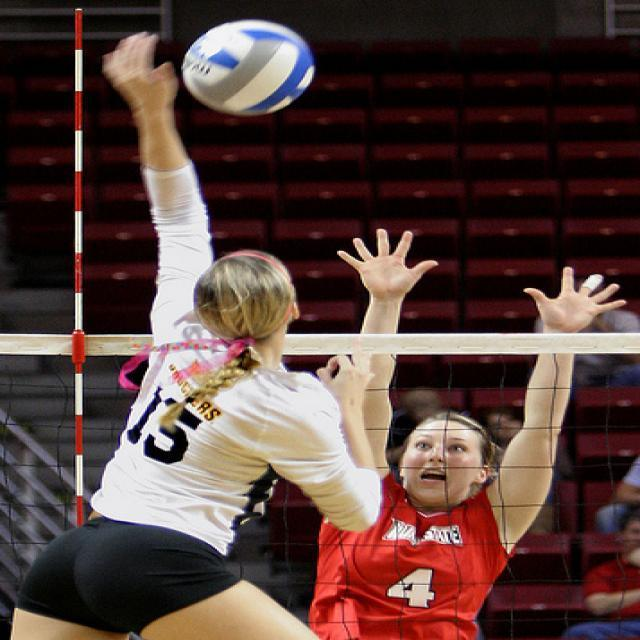volleyball: (181, 20, 315, 116)
